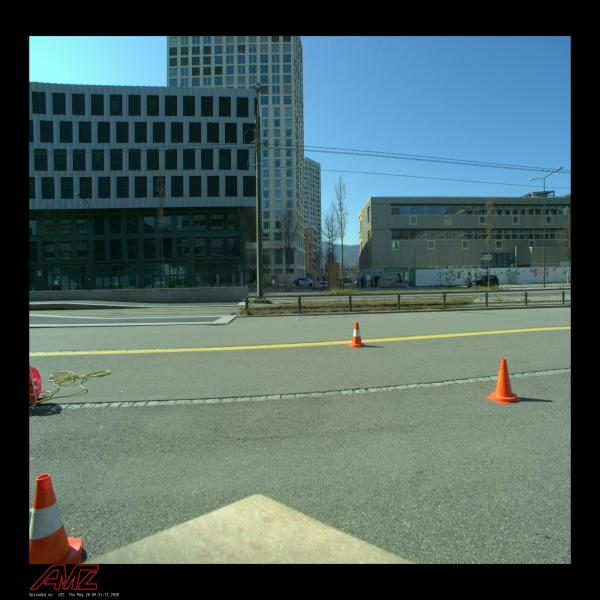orange_cone: (30, 474, 82, 564), (486, 358, 522, 404), (349, 322, 365, 347)
